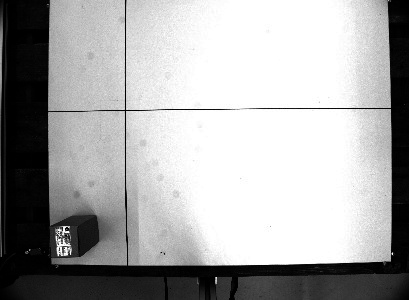b2: (47, 213, 101, 260)
